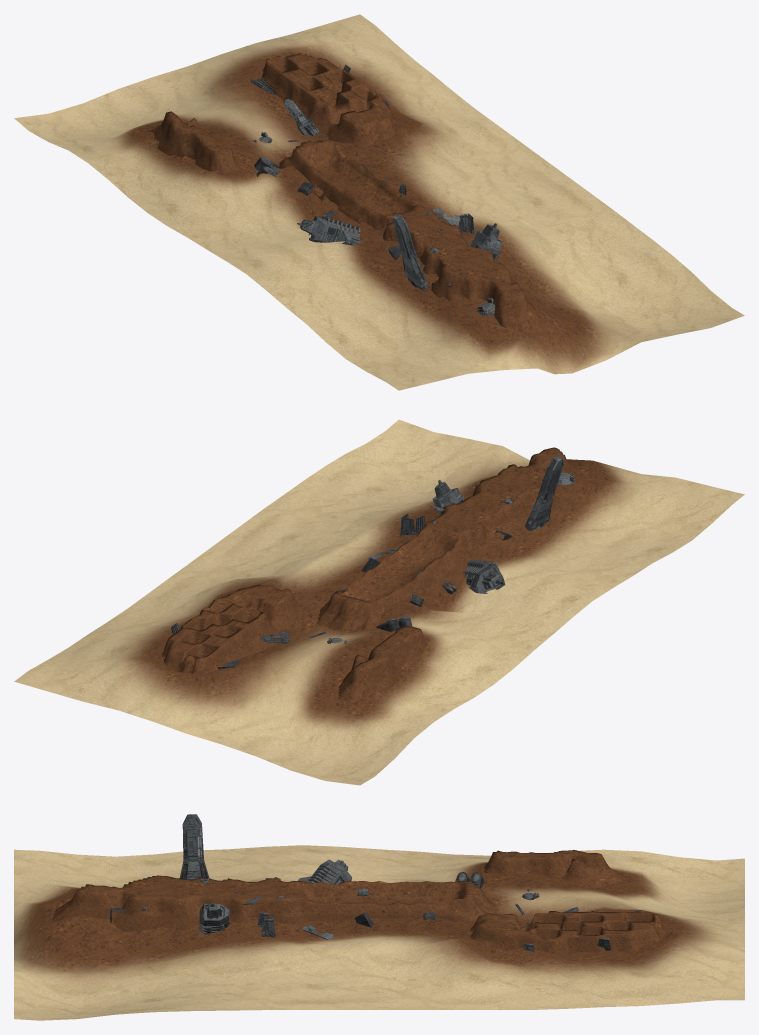
Rendered from TerrainAll.fbx.
The picture shows the model from 3 angles, top to bottom: view 1: azimuth 30°, elevation 25°; view 2: azimuth 150°, elevation 25°; view 3: azimuth 270°, elevation 25°; orthographic projection. The views are drawn at different scales.
Parts seen in each view (by area): view 1: pPlane3, pPlane1, polySurface15, Pecas:polySurface1, Pecas:polySurface15; view 2: pPlane3, pPlane1, Pecas:polySurface1, polySurface15; view 3: pPlane3, pPlane1, Pecas:polySurface1, Pecas:polySurface15, polySurface15.
Part boxes in pixels (<box>): pPlane3: <box>14,14,744,390</box>; pPlane1: <box>150,53,544,332</box>; polySurface15: <box>297,216,360,245</box>; Pecas:polySurface1: <box>392,214,428,290</box>; Pecas:polySurface15: <box>471,223,502,261</box>; pPlane3: <box>14,419,744,785</box>; pPlane1: <box>162,447,581,702</box>; Pecas:polySurface1: <box>525,455,563,530</box>; polySurface15: <box>464,559,505,593</box>; pPlane3: <box>14,845,744,1020</box>; pPlane1: <box>51,850,665,954</box>; Pecas:polySurface1: <box>180,814,209,879</box>; Pecas:polySurface15: <box>199,903,229,934</box>; polySurface15: <box>298,859,351,884</box>.
Size of the model in its own units: 61.85 by 18.81 by 119.
